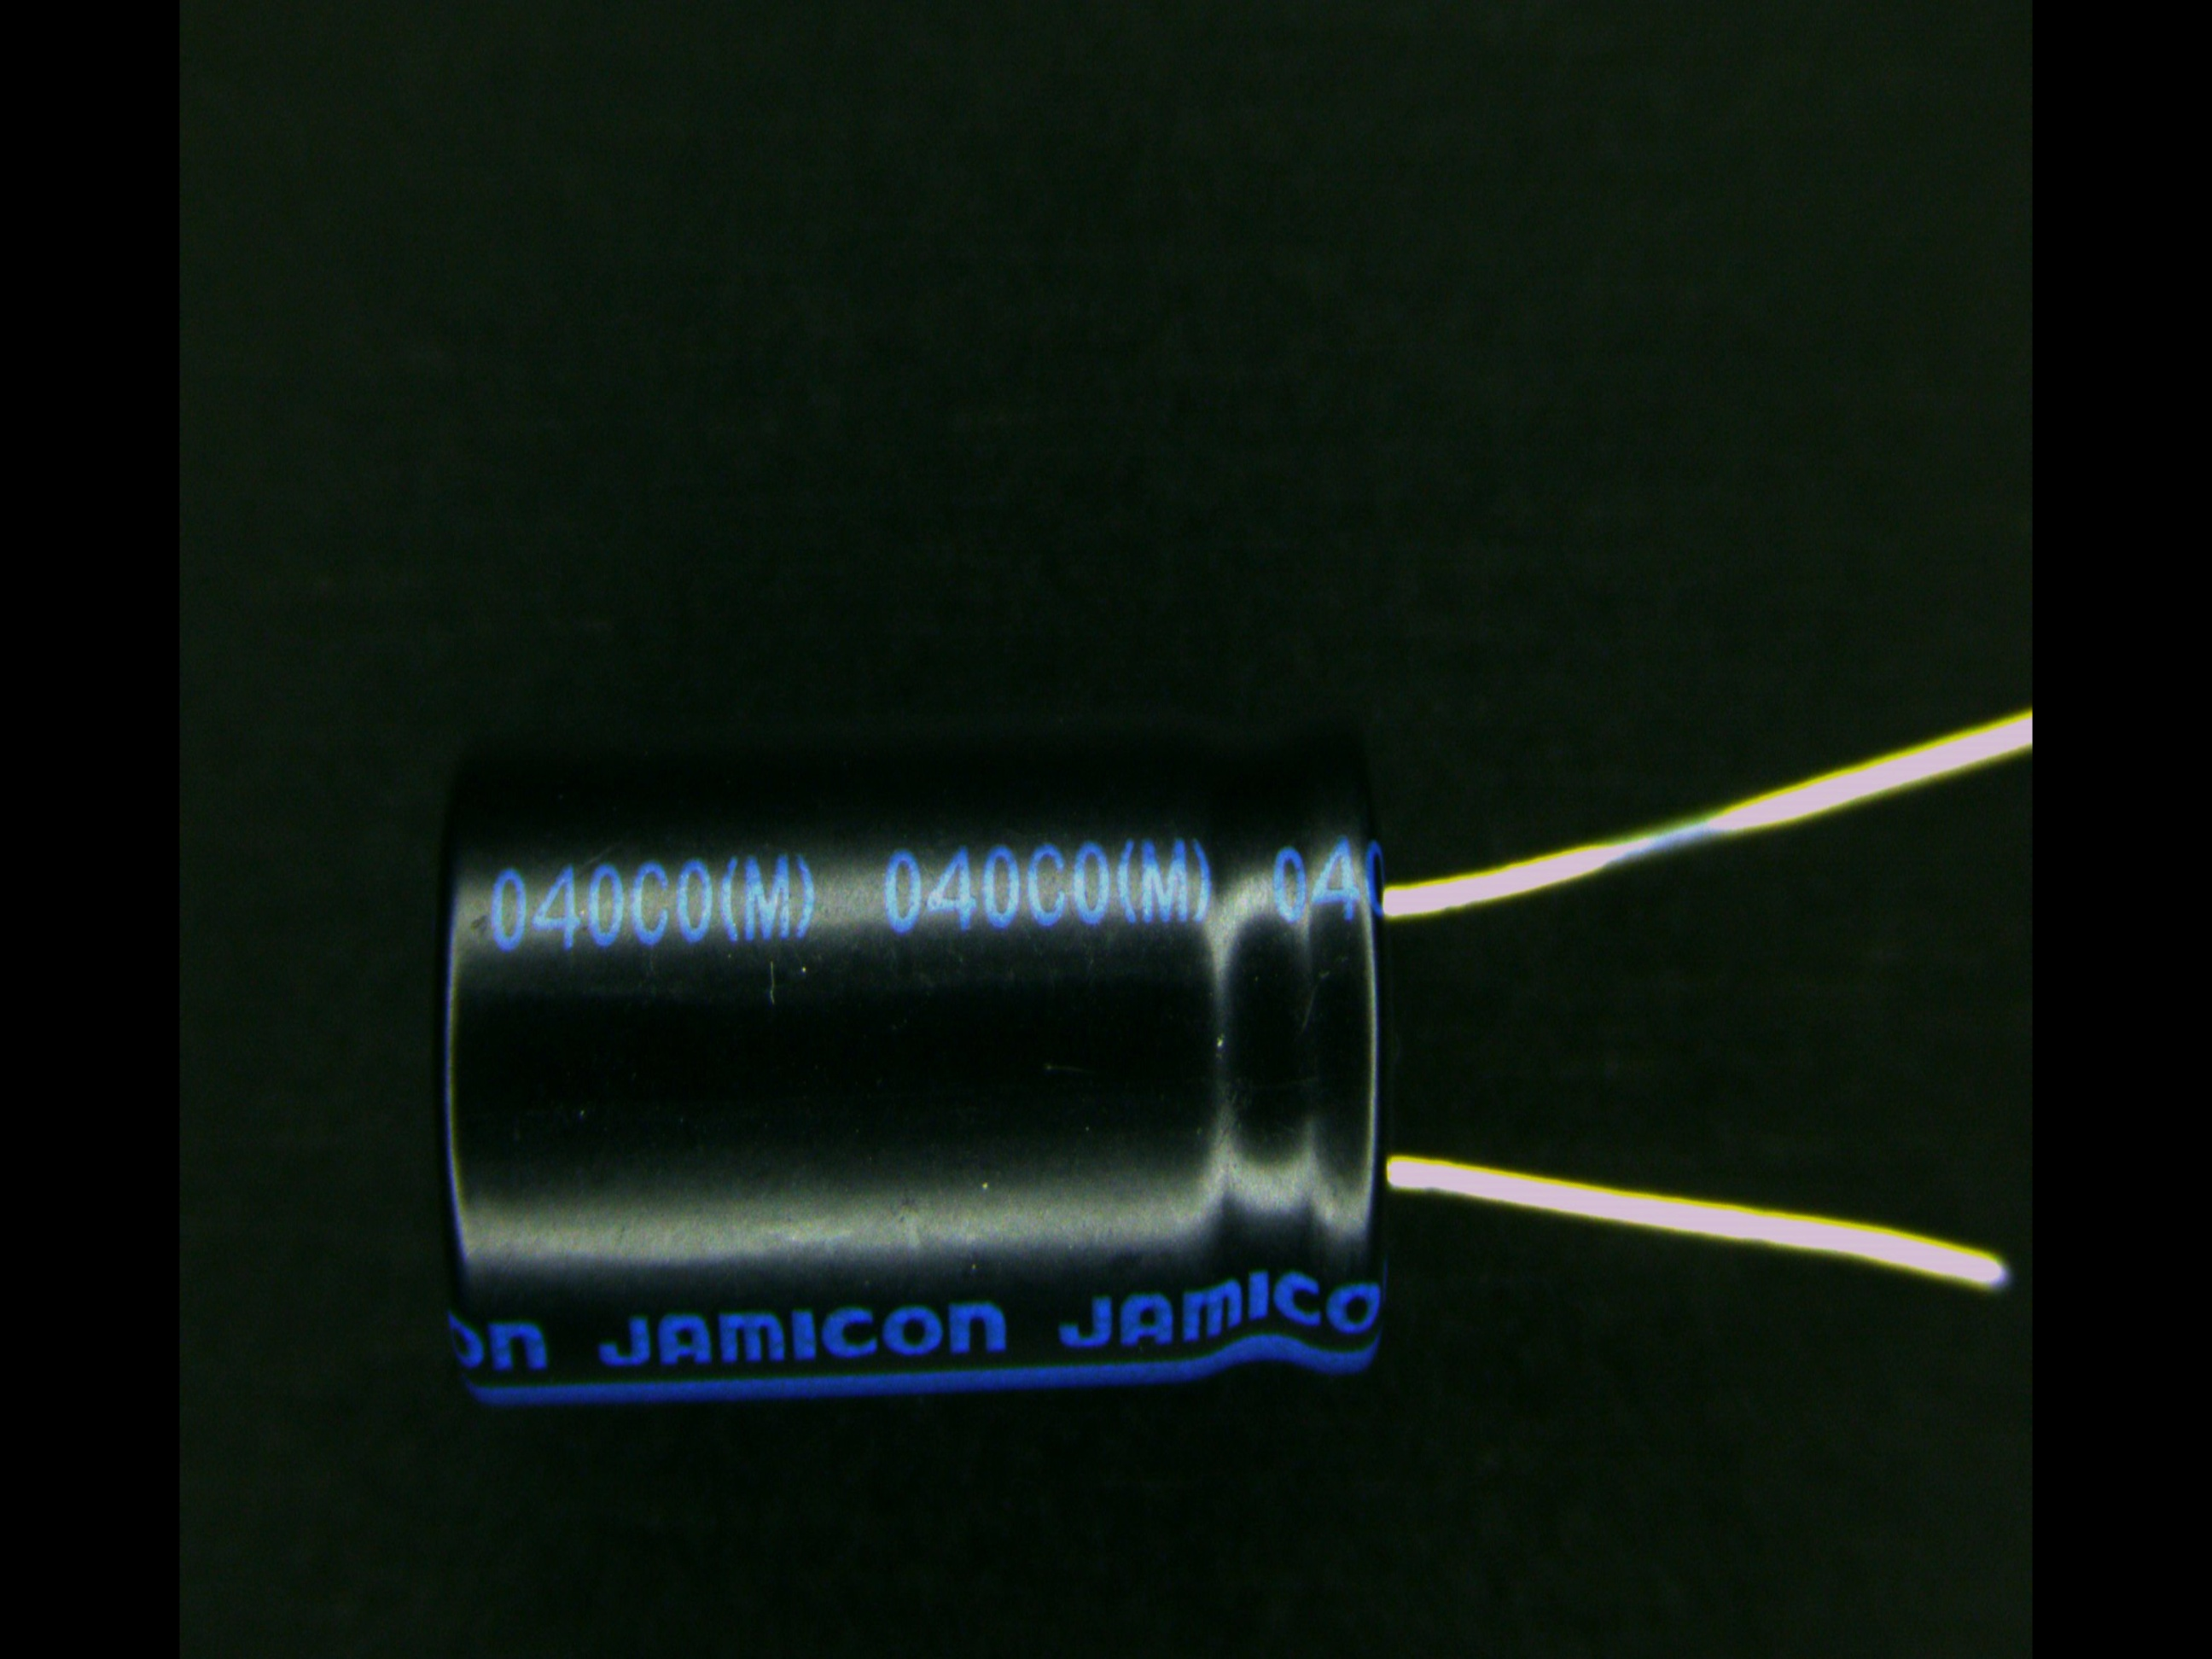c2: (430, 760, 1514, 1410)
